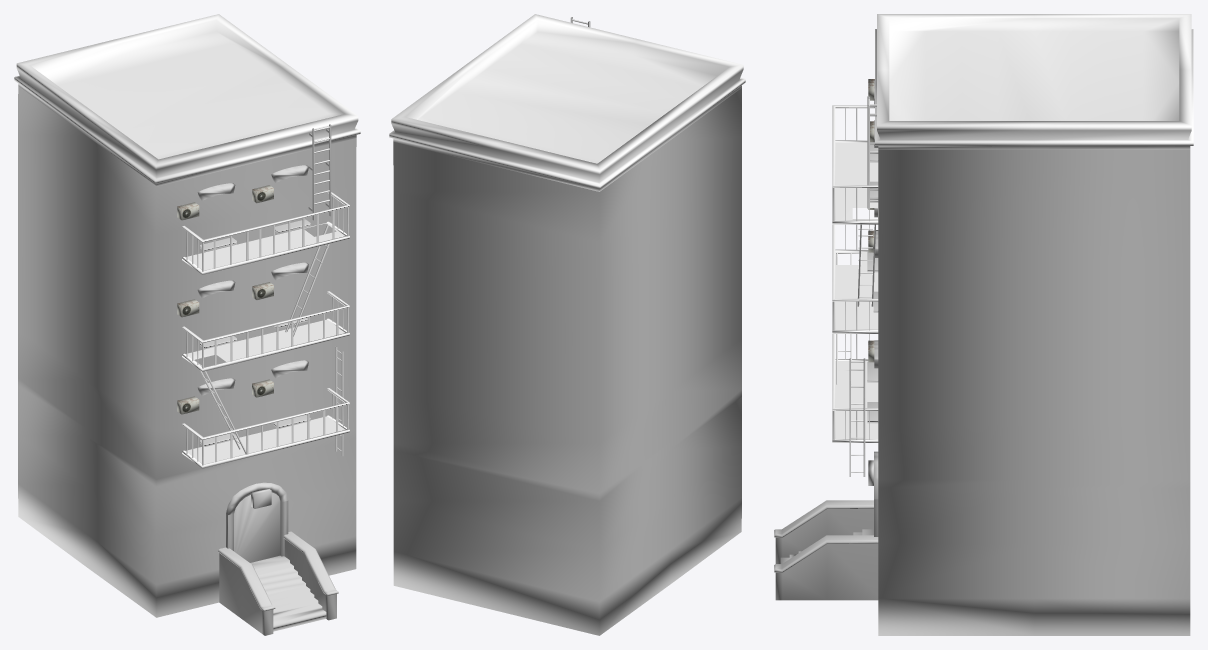
The model's file is house7.fbx.
The picture shows the model from 3 angles, left to right: view 1: azimuth 30°, elevation 25°; view 2: azimuth 150°, elevation 25°; view 3: azimuth 270°, elevation 25°; orthographic projection. The views are drawn at different scales.
Parts seen in each view (by area): view 1: house7; view 2: house7; view 3: house7.
Part boxes in pixels (x1=…): house7: x1=14, y1=14, x2=360, y2=635; house7: x1=389, y1=14, x2=745, y2=635; house7: x1=774, y1=14, x2=1193, y2=635.
Bounding box in the file's own units: 495 × 1050 × 778.
